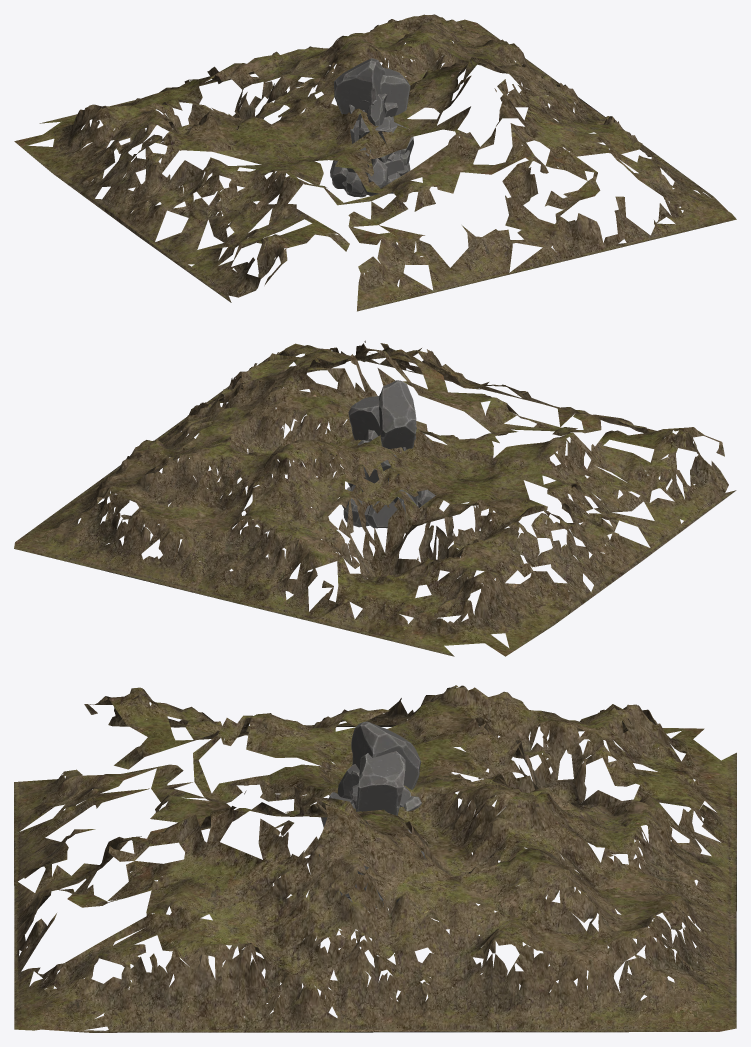
The model's file is rocks.glb.
The picture shows the model from 3 angles, top to bottom: view 1: azimuth 30°, elevation 25°; view 2: azimuth 150°, elevation 25°; view 3: azimuth 270°, elevation 25°; orthographic projection. The views are drawn at different scales.
Parts seen in each view (by area): view 1: Mesh_bake_0, Plain_Rock_Group7, Plain_Rock_Group5; view 2: Mesh_bake_0, Plain_Rock_Group7; view 3: Mesh_bake_0, Plain_Rock_Group7, Plain_Rock_Group5.
Boxes of the visible parts, left/top/right/bottom form: Mesh_bake_0: left=14, top=14, right=736, bottom=311; Plain_Rock_Group7: left=330, top=58, right=413, bottom=195; Plain_Rock_Group5: left=356, top=94, right=410, bottom=165; Mesh_bake_0: left=14, top=340, right=736, bottom=656; Plain_Rock_Group7: left=342, top=380, right=435, bottom=528; Mesh_bake_0: left=14, top=685, right=736, bottom=1032; Plain_Rock_Group7: left=310, top=721, right=422, bottom=902; Plain_Rock_Group5: left=329, top=764, right=359, bottom=898.
Size of the model in its own units: 11.49 by 2.95 by 11.47.
4 materials, 4 textured.
